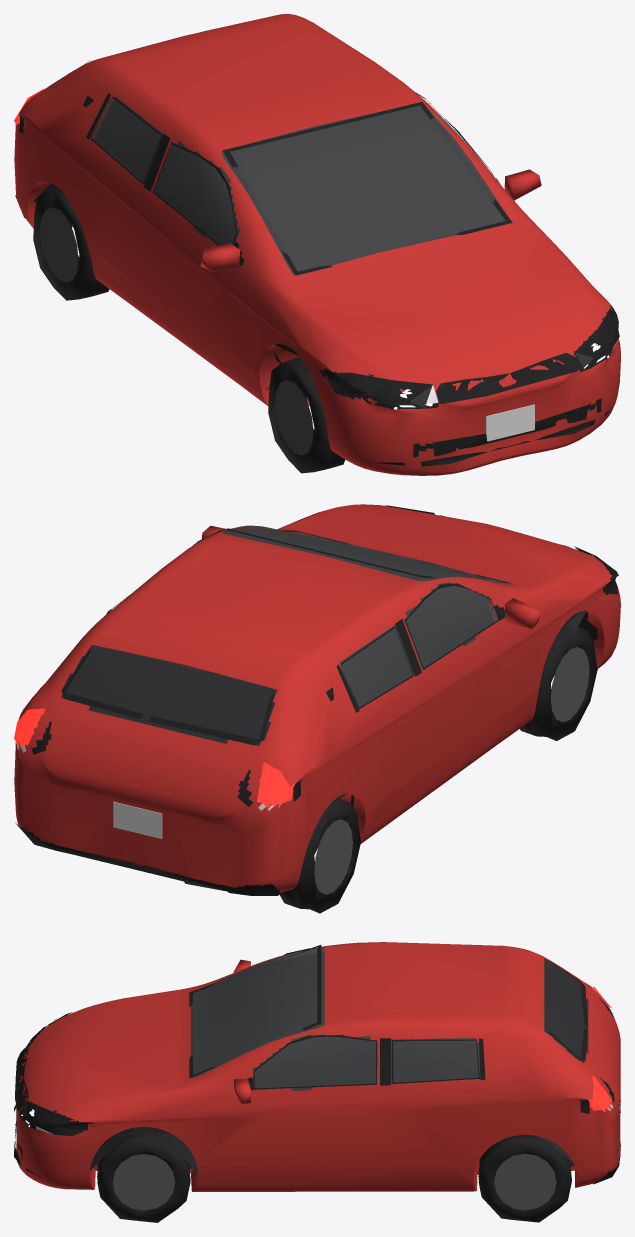
File: compactHatchSport-lod2.glb
3 views of the same model, one above another, from view 1: azimuth 30°, elevation 25°; view 2: azimuth 150°, elevation 25°; view 3: azimuth 270°, elevation 25° (orthographic). The views are drawn at different scales.
Parts seen in each view (by area): view 1: Body, Body_Lining, Body_Trim, Wheel_FR_Tyre, Wheel_RR_Tyre, Wheel_RR_Face, Wheel_FR_Face, PlateFront, Mirror_R_Housing, Mirror_L_Housing; view 2: Body, Body_Lining, Body_Trim, Wheel_FR_Tyre, Wheel_RR_Tyre, Wheel_FR_Face, Wheel_RR_Face, PlateRear, Mirror_R_Housing; view 3: Body, Body_Lining, Body_Trim, Wheel_FL_Tyre, Wheel_RL_Tyre, Wheel_RL_Face, Wheel_FL_Face, Arch_F_L_Liner.
Part boxes in pixels (bbox=[...]): Body: bbox=[14, 14, 620, 475]; Body_Lining: bbox=[95, 97, 505, 274]; Body_Trim: bbox=[14, 60, 619, 466]; Wheel_FR_Tyre: bbox=[268, 357, 344, 473]; Wheel_RR_Tyre: bbox=[33, 187, 109, 300]; Wheel_RR_Face: bbox=[39, 207, 78, 282]; Wheel_FR_Face: bbox=[274, 380, 313, 455]; PlateFront: bbox=[486, 404, 534, 441]; Mirror_R_Housing: bbox=[200, 243, 239, 271]; Mirror_L_Housing: bbox=[504, 169, 541, 200]; Body: bbox=[14, 504, 620, 892]; Body_Lining: bbox=[67, 532, 493, 744]; Body_Trim: bbox=[14, 505, 618, 895]; Wheel_FR_Tyre: bbox=[520, 626, 597, 740]; Wheel_RR_Tyre: bbox=[279, 798, 360, 913]; Wheel_FR_Face: bbox=[550, 646, 589, 722]; Wheel_RR_Face: bbox=[314, 819, 352, 894]; PlateRear: bbox=[113, 801, 162, 838]; Mirror_R_Housing: bbox=[504, 598, 541, 628]; Body: bbox=[16, 942, 620, 1191]; Body_Lining: bbox=[191, 952, 587, 1090]; Body_Trim: bbox=[14, 945, 620, 1184]; Wheel_FL_Tyre: bbox=[97, 1130, 190, 1222]; Wheel_RL_Tyre: bbox=[478, 1136, 571, 1222]; Wheel_RL_Face: bbox=[494, 1153, 556, 1210]; Wheel_FL_Face: bbox=[112, 1154, 175, 1210]; Arch_F_L_Liner: bbox=[90, 1126, 198, 1174].
Size of the model in its own units: 2.13 by 1.41 by 4.07.
